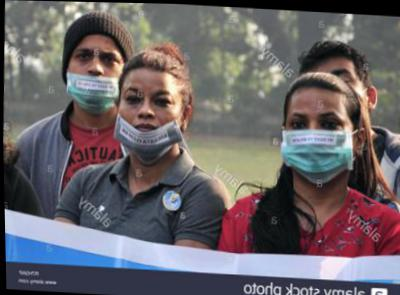OK: (283, 104, 357, 182)
WRONG: (115, 80, 184, 161), (64, 42, 128, 115)
